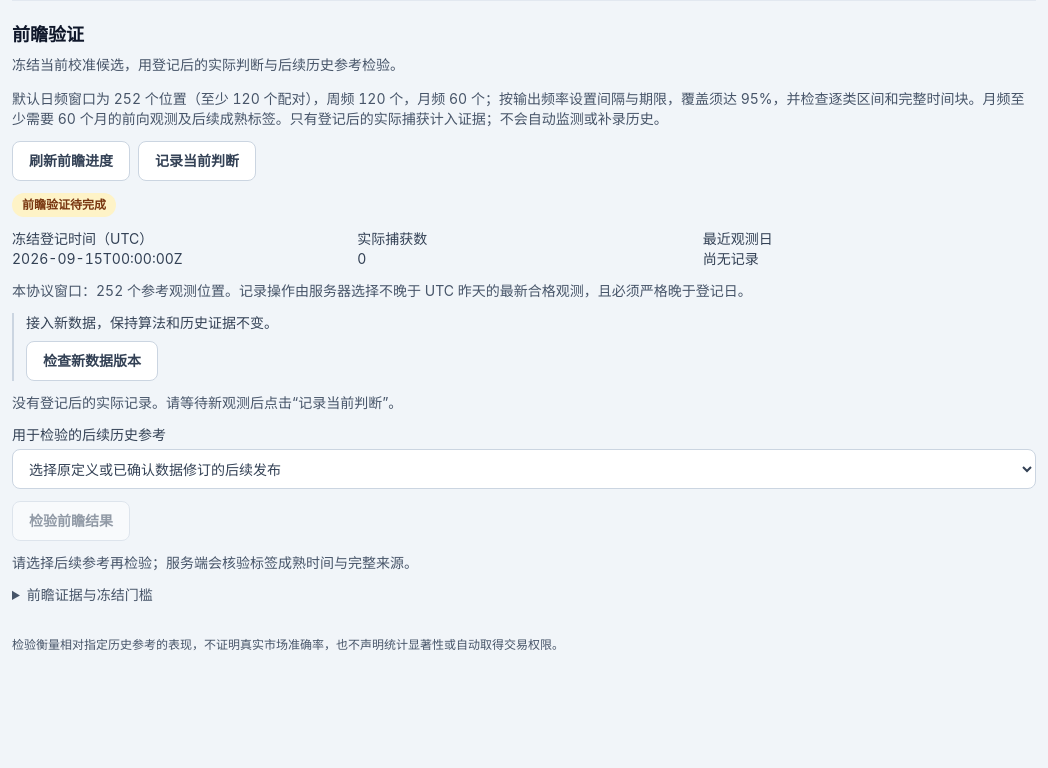
前瞻验证 › capture explains observation_too_old in Chinese with next action
The width and height of the screenshot is (1048, 768).
Expected: the button "刷新前瞻进度" is enabled, [12, 141, 130, 181]
Click the button "记录当前判断".
click(197, 161)  # box [138, 141, 256, 181]
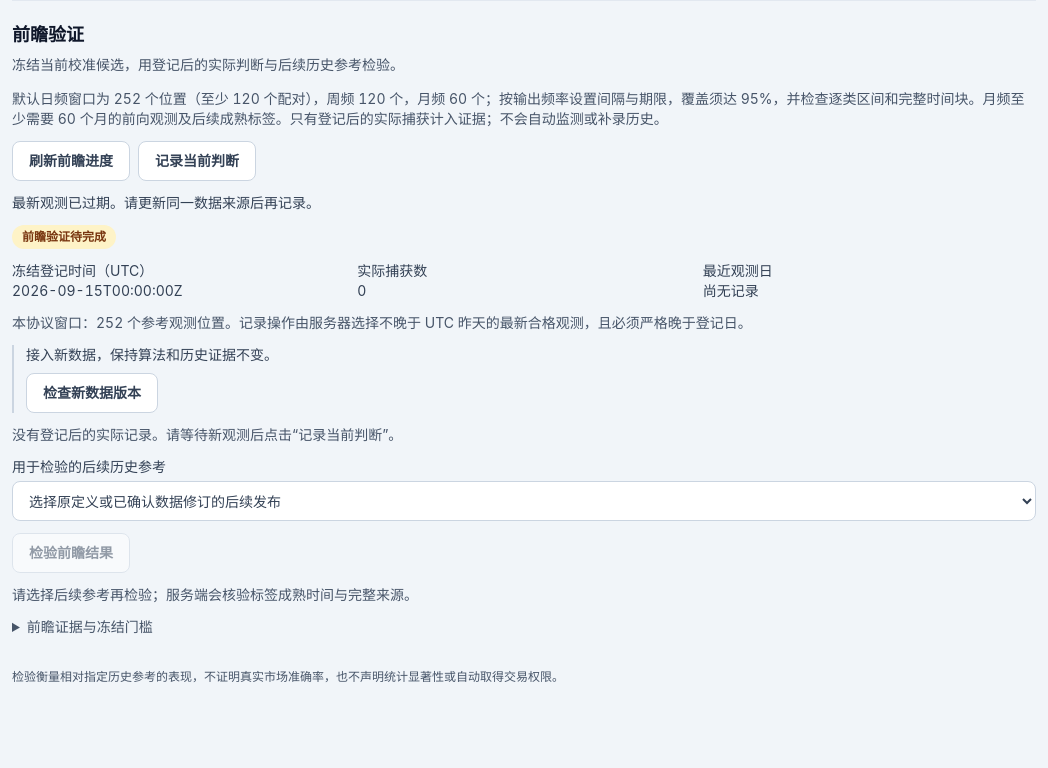
Result: the text "最新观测已过期。请更新同一数据来源后再记录。" is shown at [12, 194, 320, 211]
